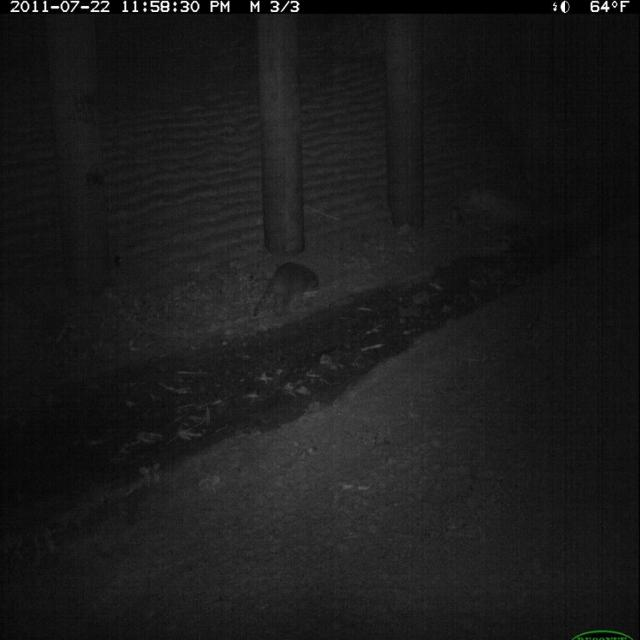raccoon: (248, 256, 326, 326)
